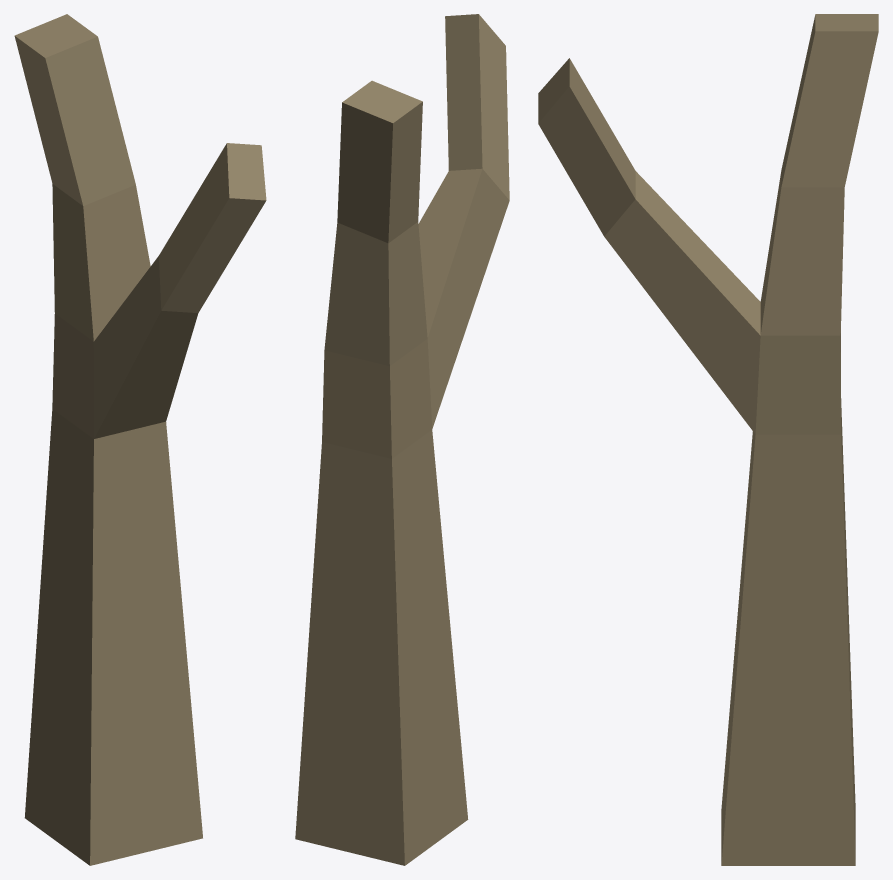
File: tree_big_1.fbx
3 renders of one model, left to right at view 1: azimuth 30°, elevation 25°; view 2: azimuth 150°, elevation 25°; view 3: azimuth 270°, elevation 25°, orthographic. The views are drawn at different scales.
Parts seen in each view (by area): view 1: tree_big_1; view 2: tree_big_1; view 3: tree_big_1.
Boxes of the visible parts, x1,y1,x2,y2 form: tree_big_1: (14,14,266,865); tree_big_1: (295,14,509,865); tree_big_1: (538,14,878,865).
Bounding box in the file's own units: 34.29 × 227 × 86.96.
